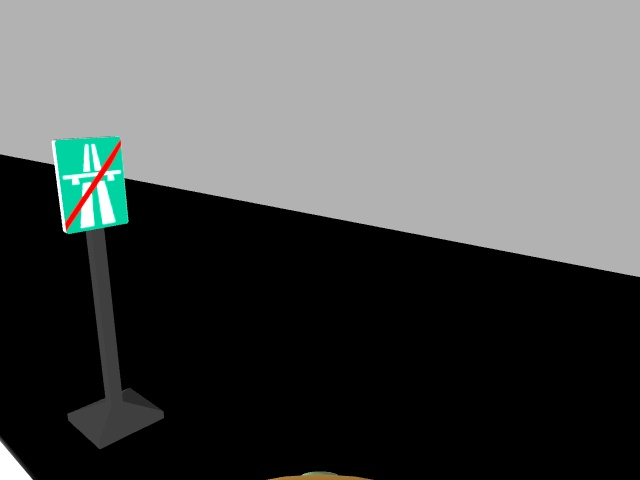HighwayExit: (50, 135, 130, 231)
